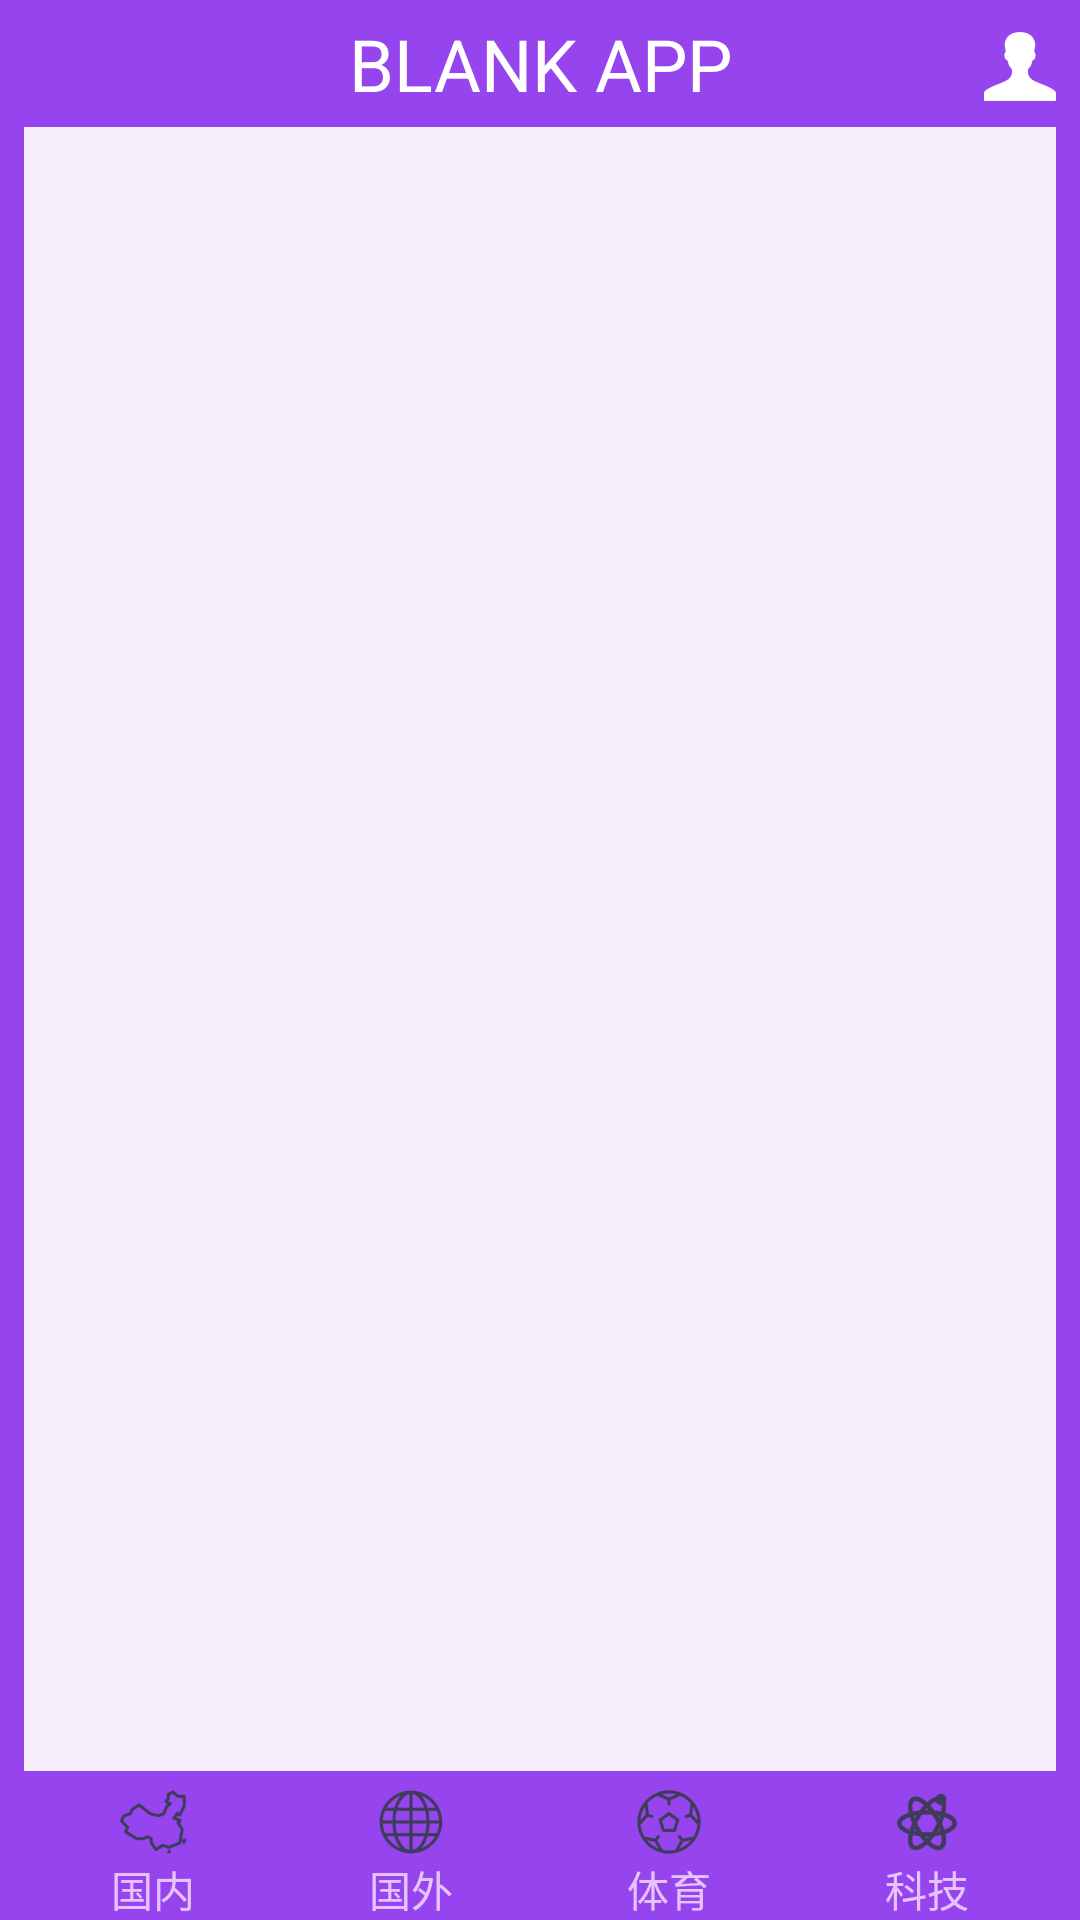

Point at icon controls on the screen. Image size 1080w x 1920h, points as point (x, y).
user: point (1020, 66)
